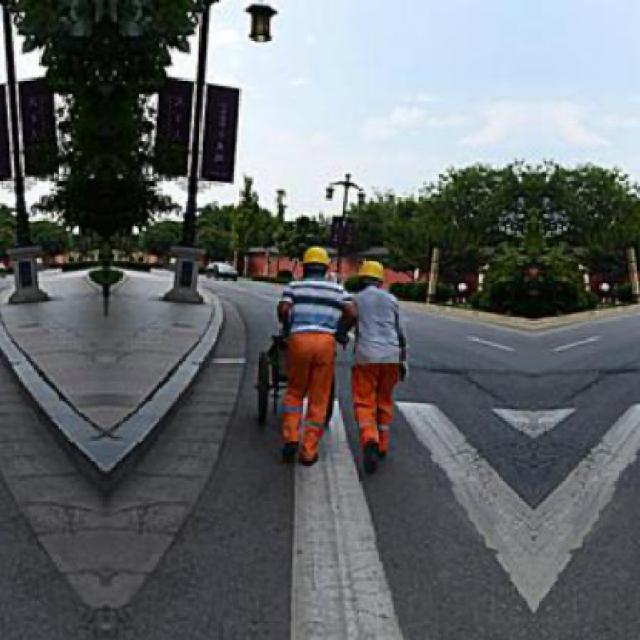helmet: (301, 243, 334, 279), (357, 254, 386, 292)
